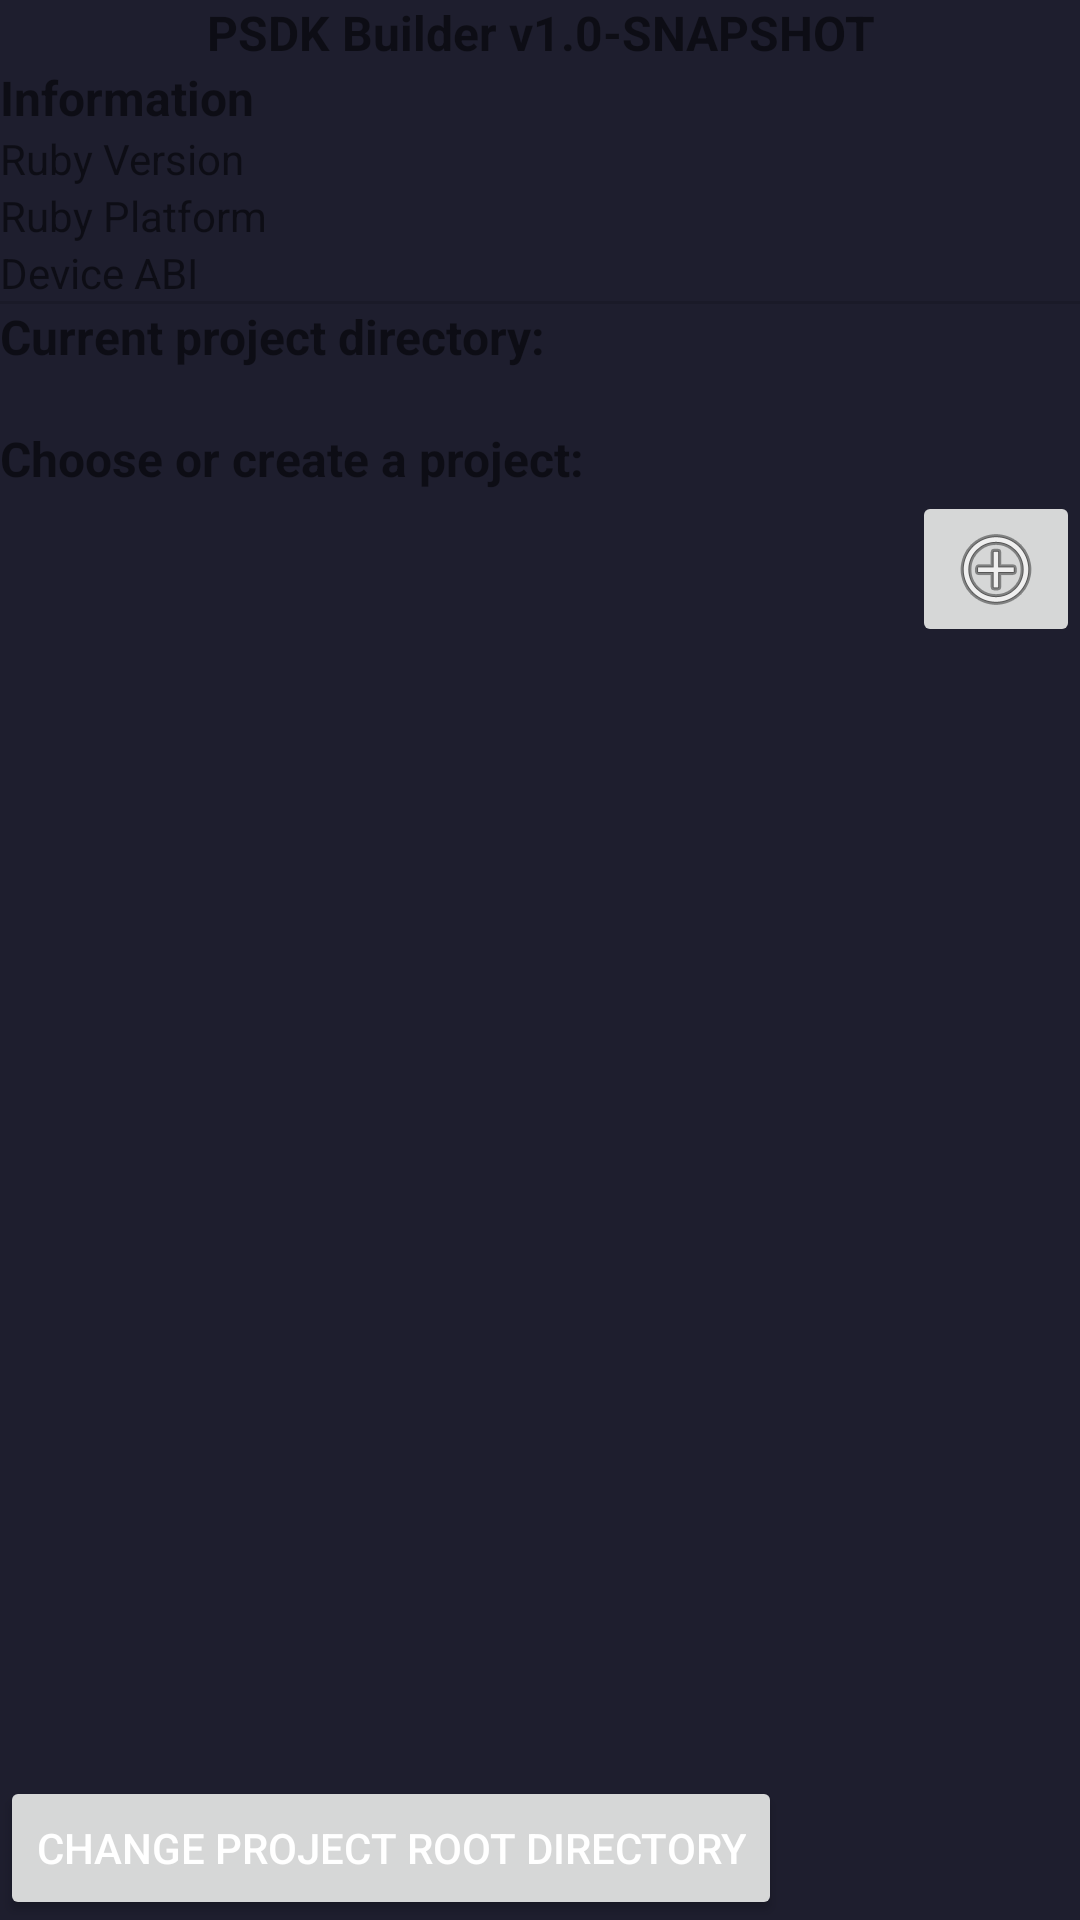

Where to tap for icons on this 1080px×1920px app screen, as (x=x, y=y):
Create new project: (x=996, y=569)
